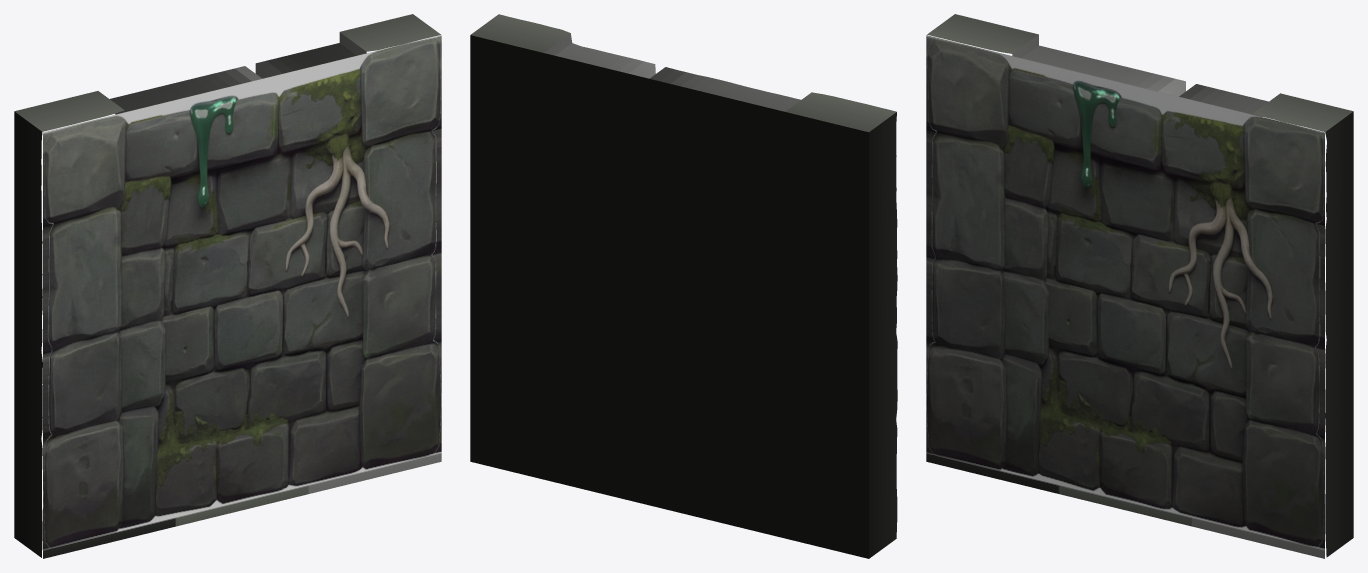
The model's file is wall_roots.glb.
The picture shows the model from 3 angles, left to right: view 1: azimuth 30°, elevation 25°; view 2: azimuth 150°, elevation 25°; view 3: azimuth 330°, elevation 25°; orthographic projection.
Visible parts, largest first — view 1: wall_roots; view 2: wall_roots; view 3: wall_roots.
Part boxes in pixels (box(x1,y1,x2,y2)): wall_roots: box(14, 14, 441, 558); wall_roots: box(470, 14, 897, 558); wall_roots: box(926, 14, 1353, 558).
Bounding box in the file's own units: 2 × 2.05 × 0.25.
Materials: 1 (1 with a texture image).
